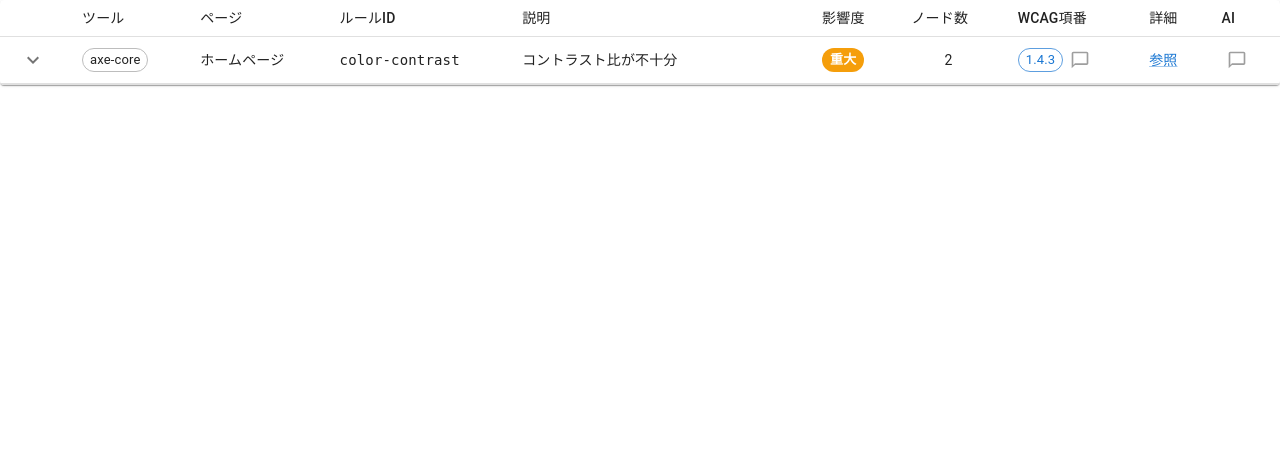
Test: ViolationsTable › NodeDetails展開機能 › 展開状態で再度クリックすると折りたたまれる
This screenshot has width=1280, height=464.
Click the button named "ノード情報を展開".
click(33, 60)  # box 16,43 -> 50,77
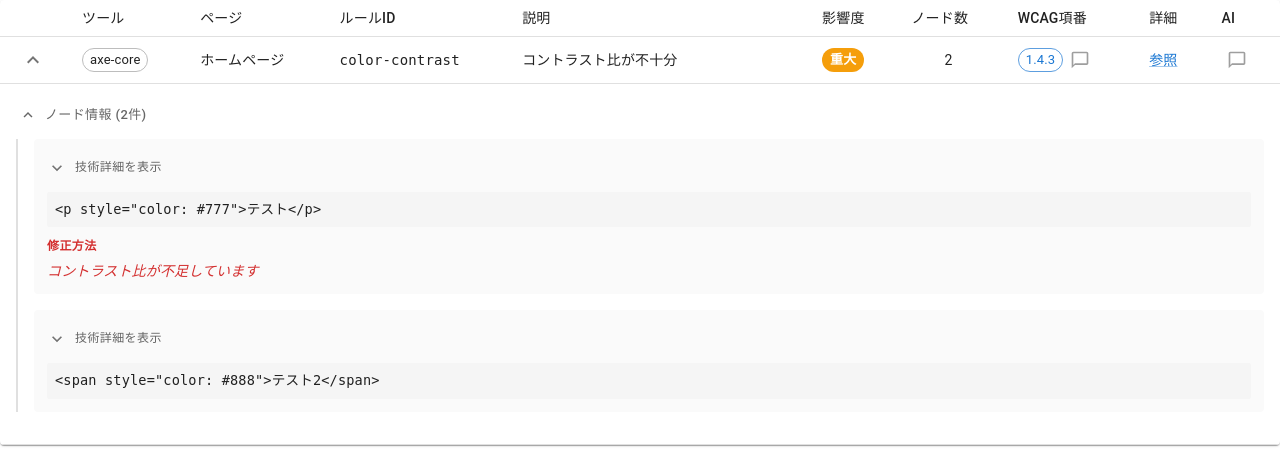
Expected: the text "<p style=\"color: #777\">テスト</p>" is shown, 47,192 -> 1251,227
# 折りたたみ（テーブルの展開ボタン）
Click the button named "ノード情報を折りたたむ".
click(33, 60)  # box 16,43 -> 50,77
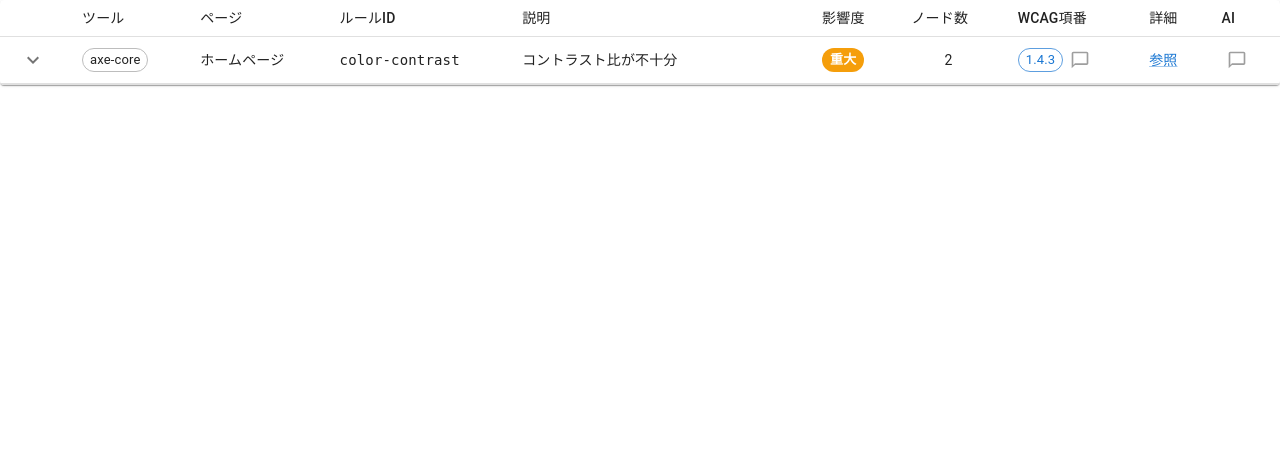
Expected: the button named "ノード情報を展開" is shown, 16,43 -> 50,77
